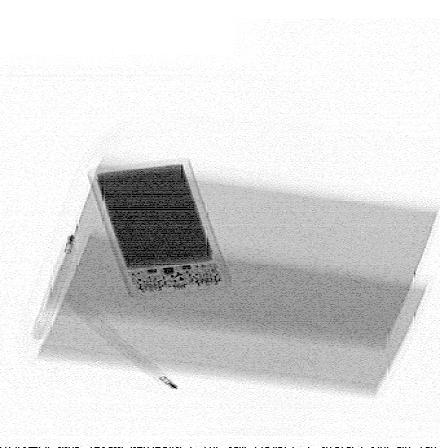Powerbank: (89, 158, 233, 297)
